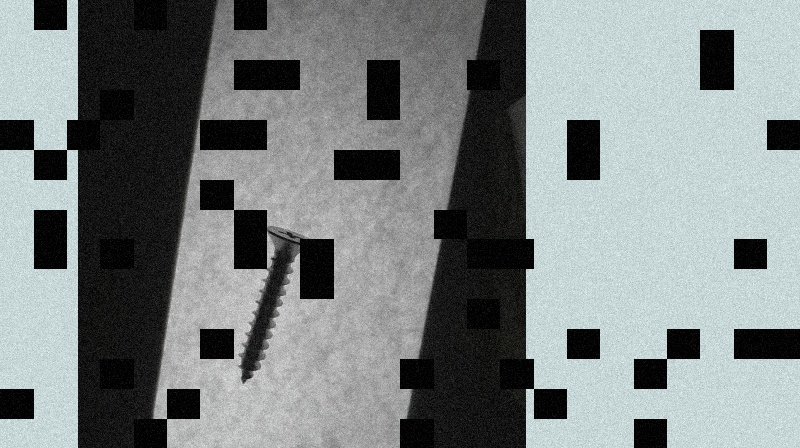S001: (236, 222, 317, 387)
